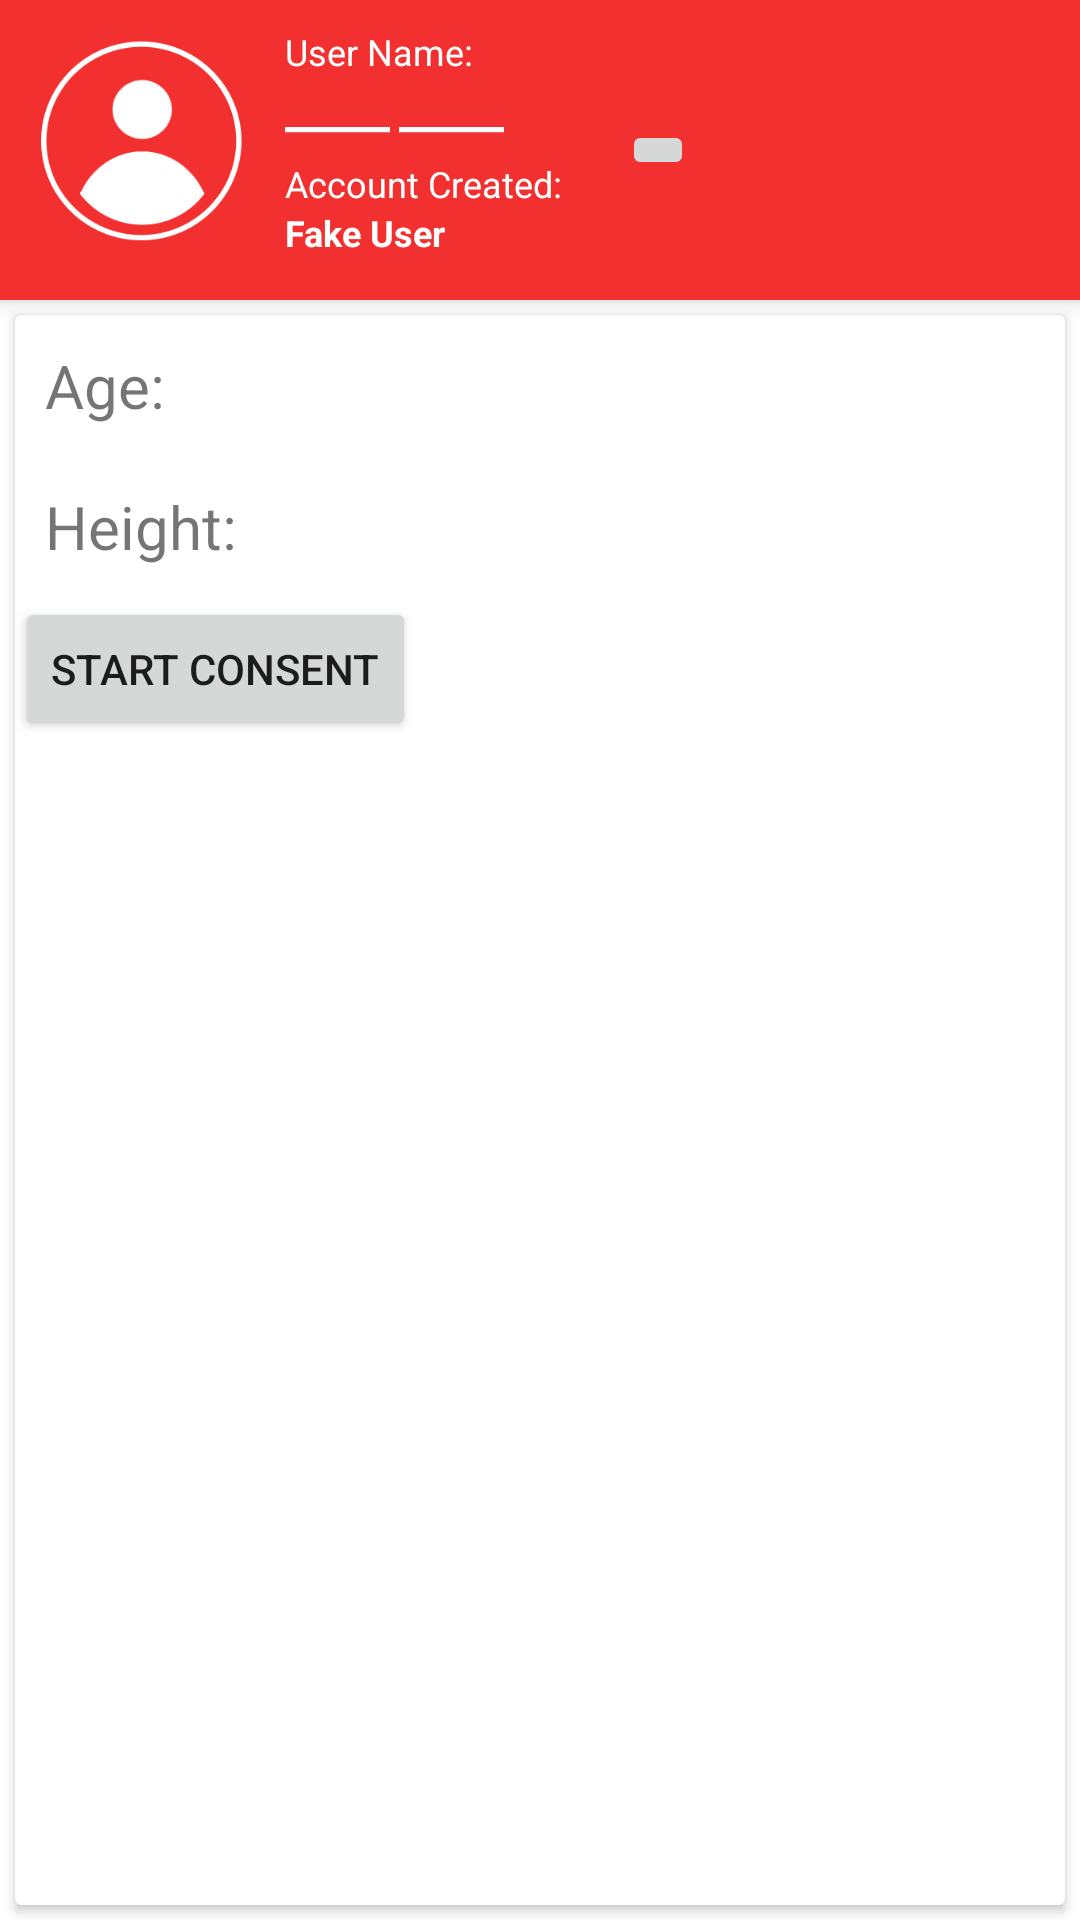

Icons on this 1080×1920 Android screen, each with the point to tap as (x=x, y=y):
account circle: (x=141, y=141)
